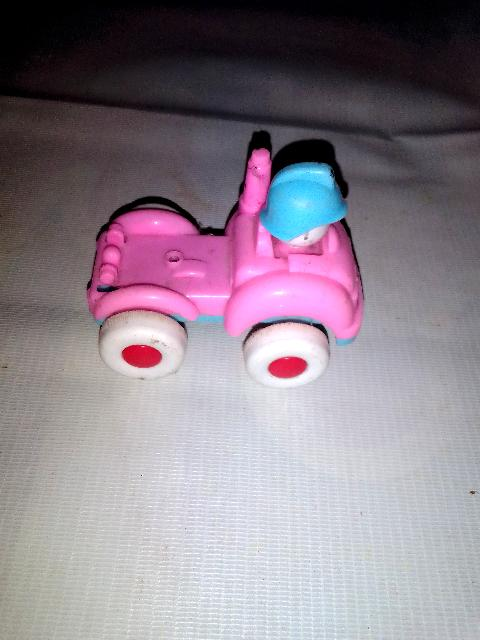hardplastic: (68, 147, 379, 408)
